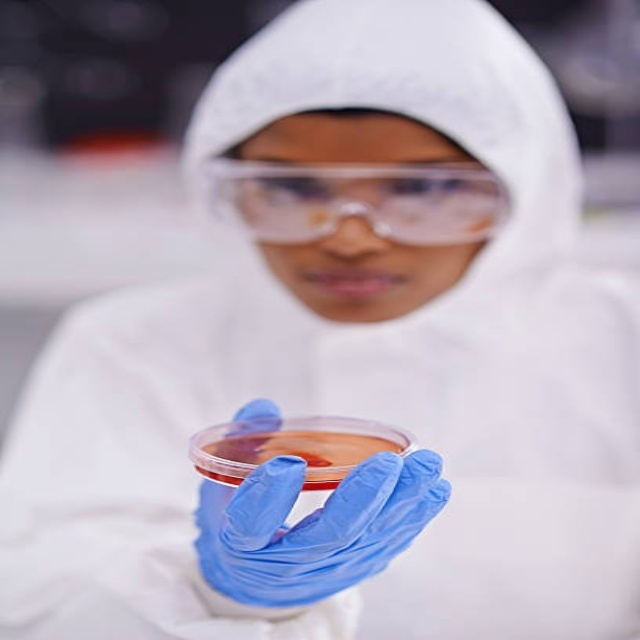Gafas: (209, 162, 514, 246)
Guantes: (193, 400, 452, 613)
Sin_mascara: (284, 257, 411, 308)
